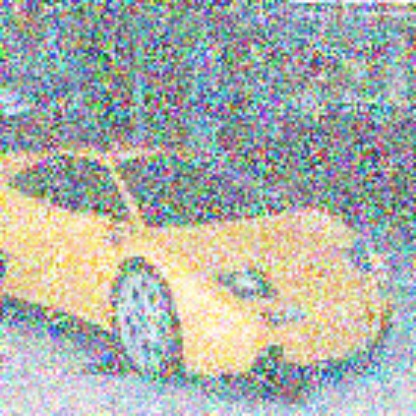Vehicle: (2, 132, 410, 400)
